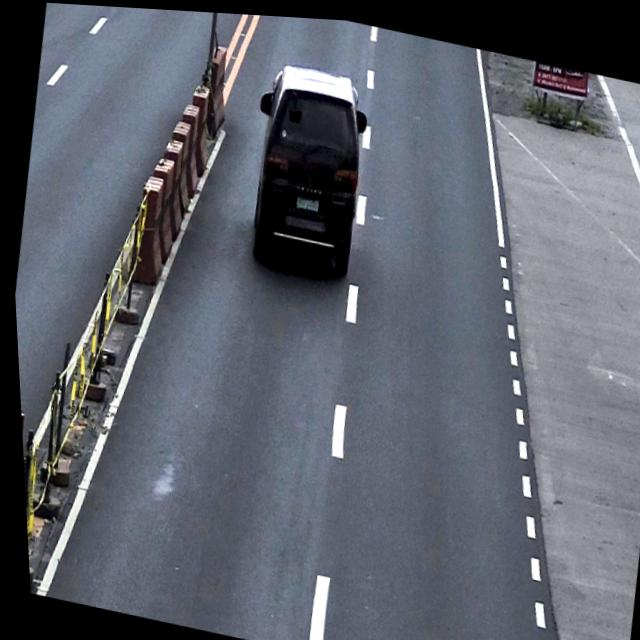Car: (232, 53, 381, 281)
License-Plate: (292, 189, 319, 210)
